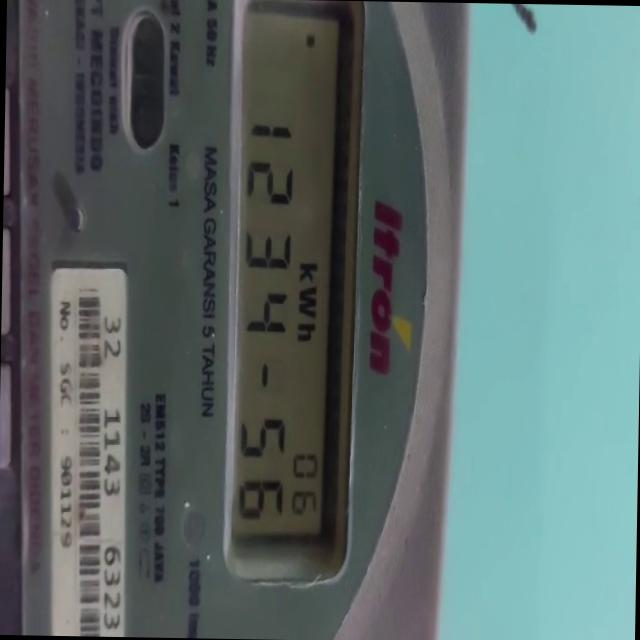LCD: (228, 1, 358, 587)
